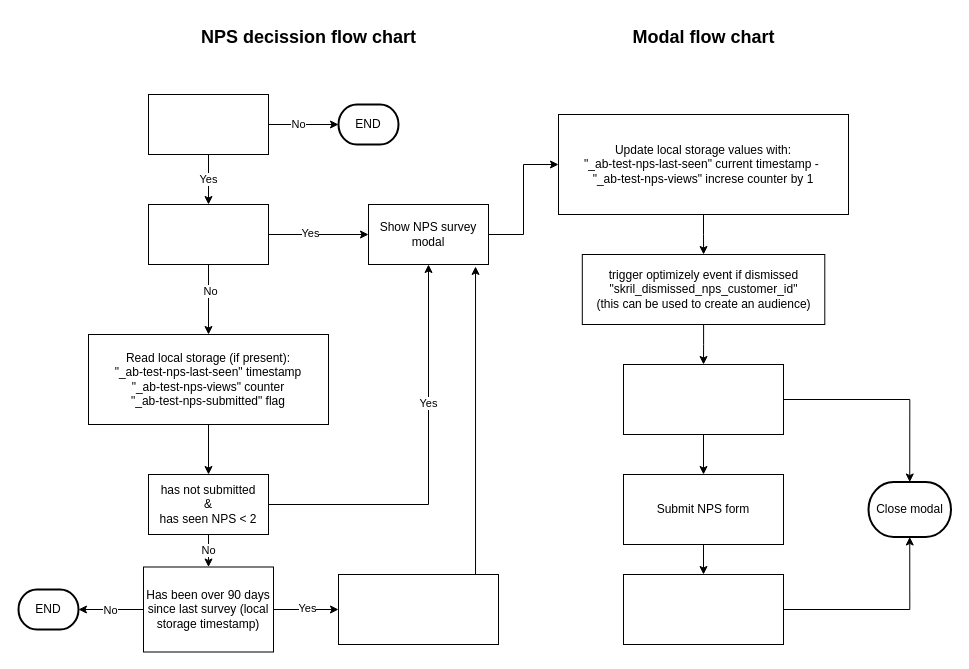
The diagram is 969 pixels wide and 669 high, and some of its shapes have lost their labels. The shapes that lost their labels are listed below. From the top down, each one's centre as x and y in pixels, then its label:
(x=208, y=124): Is customerId set
(x=208, y=234): Is Debug mode (check for Optimizely preview)
(x=703, y=399): Show NPS form
(x=418, y=609): Clear local storage items - timestamp, counter and submission flag
(x=703, y=609): set local storage "_ab-test-nps-submitted" to true
